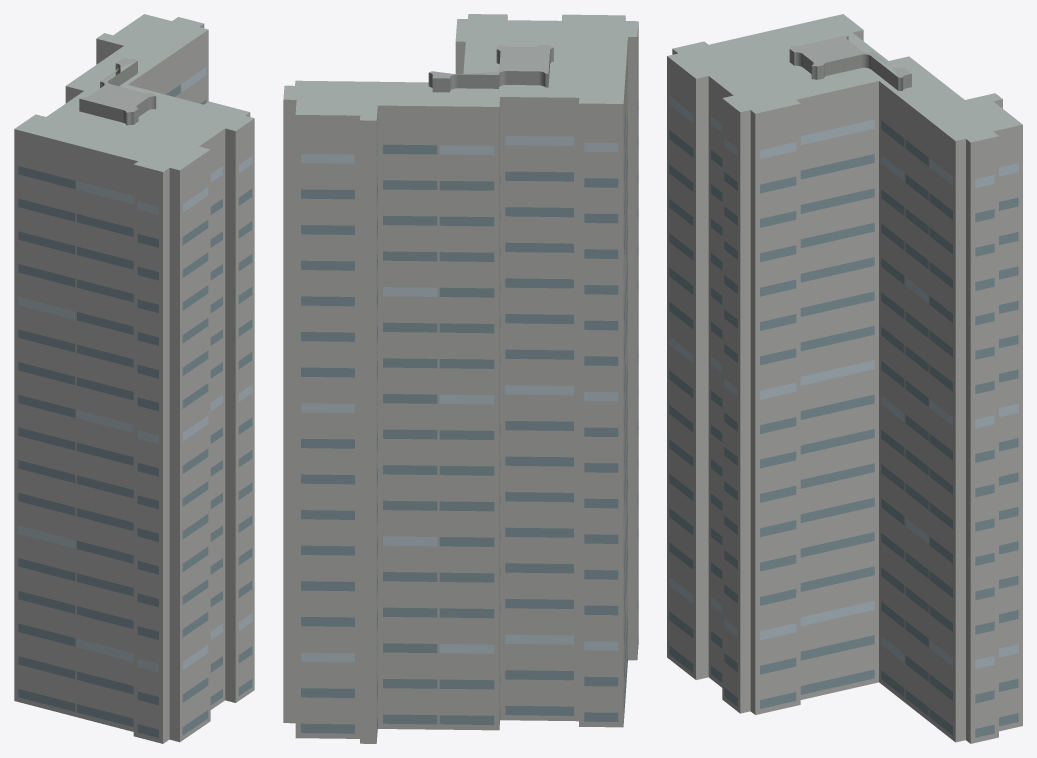
Rendered from fallback-onebailey-106.glb.
3 renders of one model, left to right at view 1: azimuth 30°, elevation 25°; view 2: azimuth 150°, elevation 25°; view 3: azimuth 270°, elevation 25°, orthographic. The views are drawn at different scales.
Visible parts, largest first — view 1: fallback-onebailey-106; view 2: fallback-onebailey-106; view 3: fallback-onebailey-106.
Part boxes in pixels (x1,y1,x2,y2): fallback-onebailey-106: (14, 14, 254, 743); fallback-onebailey-106: (283, 14, 638, 743); fallback-onebailey-106: (667, 14, 1022, 743).
Size of the model in its own units: 49.34 by 110 by 57.71.
